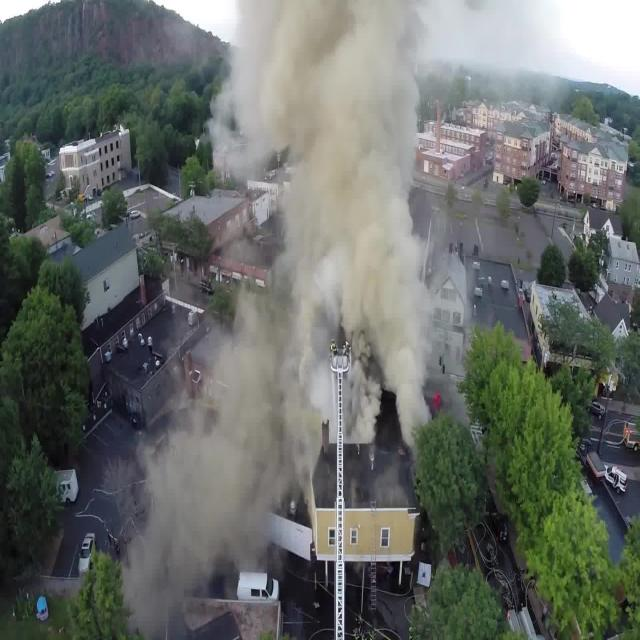Smoke: (113, 8, 444, 632)
